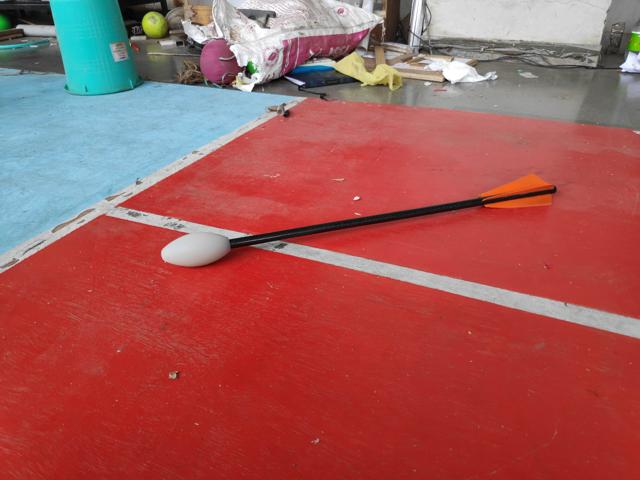Head: (157, 228, 233, 269)
Tail: (473, 170, 558, 212)
